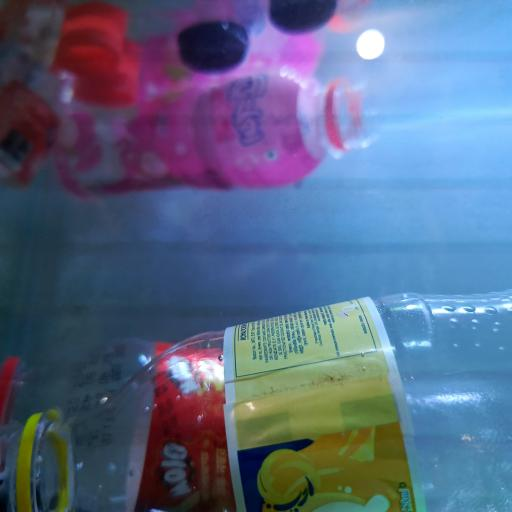bottle_cap: (73, 49, 141, 113), (176, 20, 249, 70), (59, 24, 126, 78), (270, 2, 340, 38)
plastic_bottle: (5, 287, 512, 512), (5, 334, 501, 508), (52, 68, 371, 197), (2, 42, 81, 203)
